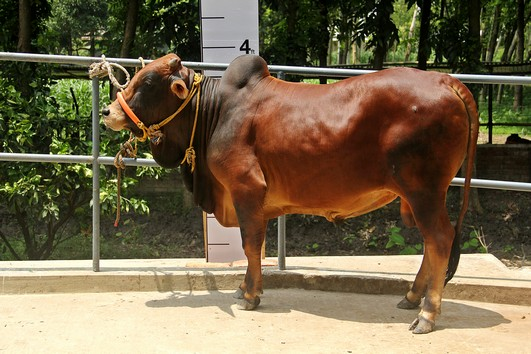cow: (89, 35, 481, 342)
